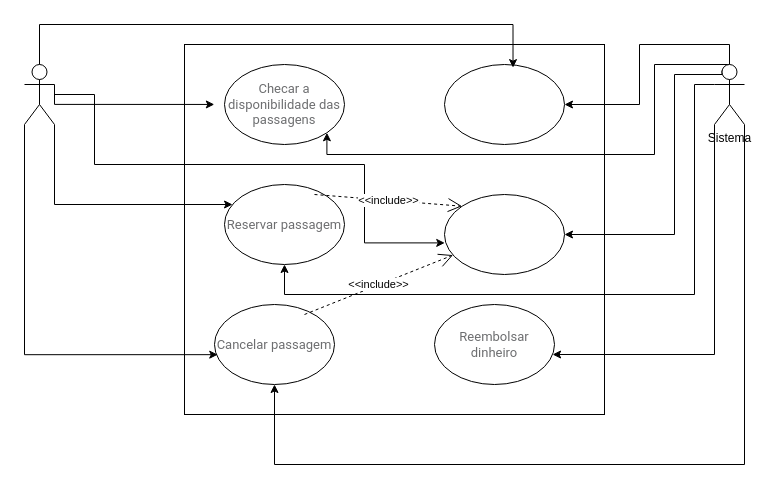
Image size: 770x490. Some labels were removed from this diagram. Here are the shapes that lost their labels. From the top down, the box of each, then its label:
(24, 64, 54, 124): Cliente
(444, 64, 564, 144): Preencher informações pessoais
(444, 194, 564, 274): Efetuar pagamento
